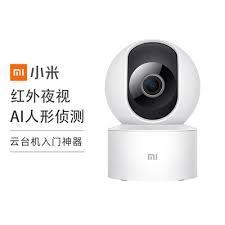maru: (105, 39, 201, 130)
